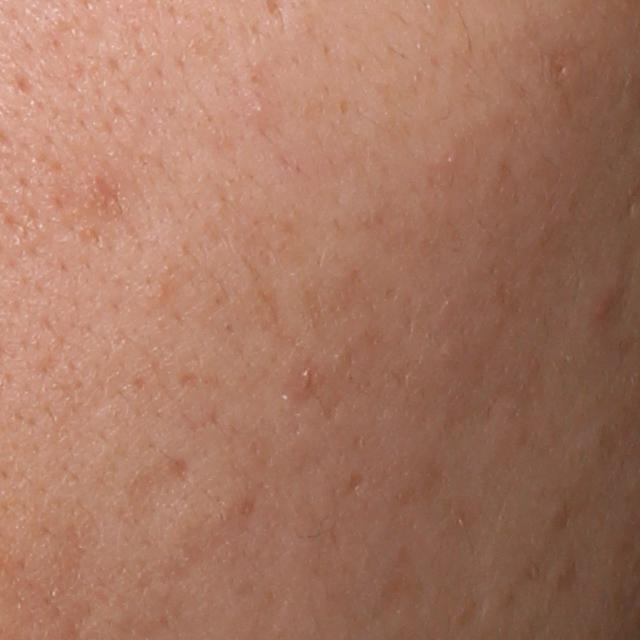atrophic_scar: (343, 469, 363, 497)
papule: (584, 294, 615, 327)
